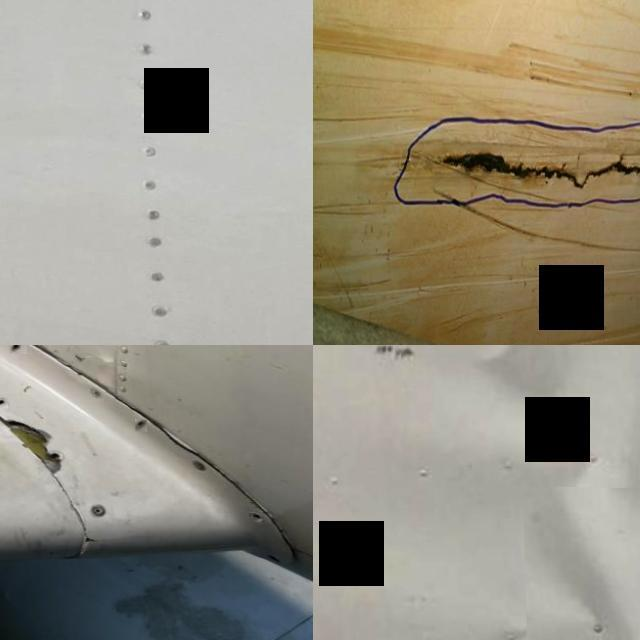Crack: (438, 148, 640, 191), (194, 450, 266, 510), (0, 416, 64, 476), (268, 497, 312, 568), (144, 418, 199, 457), (64, 526, 107, 548)
Dent: (521, 486, 640, 640), (461, 345, 571, 401)
Missing_Fastener: (245, 511, 262, 524), (262, 549, 278, 562), (132, 418, 146, 431), (7, 345, 25, 353), (0, 395, 5, 408)
